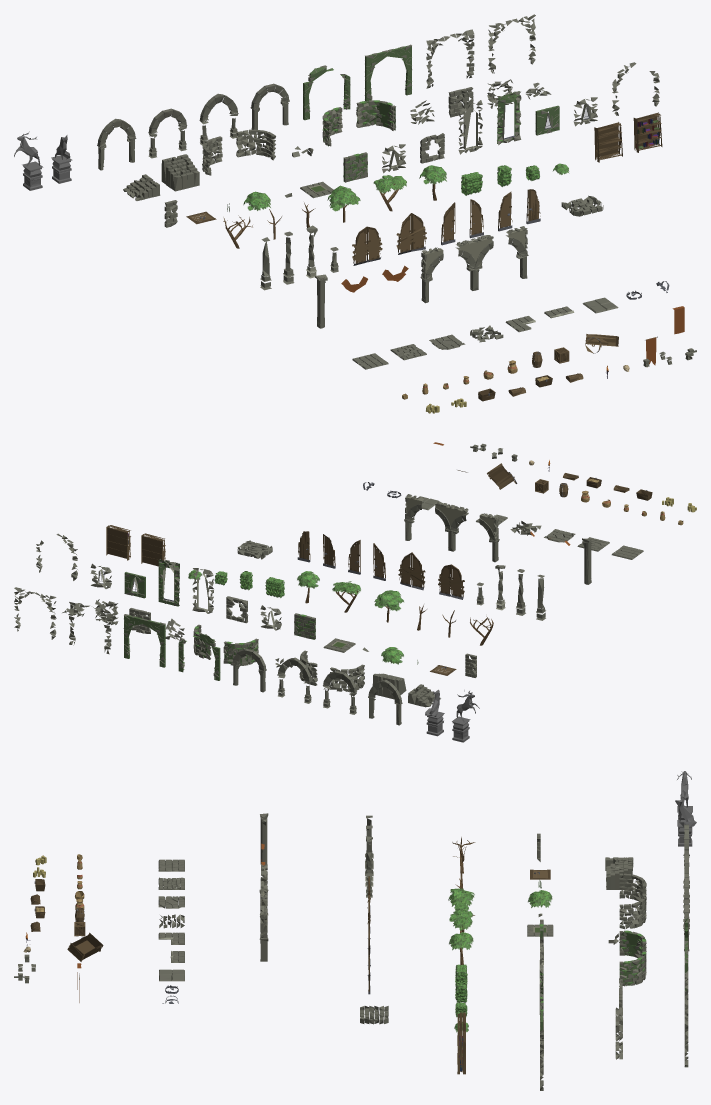
The model's file is ruins_lod.glb.
The picture shows the model from 3 angles, top to bottom: view 1: azimuth 30°, elevation 25°; view 2: azimuth 150°, elevation 25°; view 3: azimuth 270°, elevation 25°; orthographic projection. The views are drawn at different scales.
Visible parts, largest first — view 1: Stairs_2, Support_Center, Curve_2_Overgrown, Wall_ArchRound_Overgrown, Curve_2, Bookcase_Empty, Bookcase_Full, Doors_GothicArch_Covered, Doors_RoundArch_Covered, Window_Bars_Double_Overgrown, Statue_Stag, Wall_ArchGothic (+13 smaller); view 2: Wall_ArchRound_Overgrown, Support_Center, Bookcase_Full, Doors_GothicArch_Covered, Doors_RoundArch_Covered, Window_Bars_Double_Overgrown, Bookcase_Empty, Statue_Stag, Curve_1_Overgrown, Wall_ArchGothic, Arch_Gothic, Arch_Gothic_RoundColumn (+14 smaller); view 3: Curve_2_Overgrown, Curve_2, Curve_1_Overgrown, Curve_1, Stairs_2, Cart, Statue_Fox, BridgeSection.
Boxes of the visible parts, x1,y1,x2,y2 form: Stairs_2: (161,154,199,191); Support_Center: (455,235,493,290); Curve_2_Overgrown: (356,100,395,130); Wall_ArchRound_Overgrown: (364,44,412,101); Curve_2: (236,129,275,160); Bookcase_Empty: (594,122,622,162); Bookcase_Full: (633,112,662,152); Doors_GothicArch_Covered: (396,213,426,254); Doors_RoundArch_Covered: (352,226,382,265); Window_Bars_Double_Overgrown: (497,91,521,145); Statue_Stag: (14,131,43,190); Wall_ArchGothic: (426,29,474,88); Wall_ArchRound_Overgrown: (123,614,165,667); Support_Center: (435,501,468,551); Bookcase_Full: (106,525,130,560); Doors_GothicArch_Covered: (398,552,425,590); Doors_RoundArch_Covered: (438,564,464,599); Window_Bars_Double_Overgrown: (158,558,179,606); Bookcase_Empty: (141,533,165,566); Statue_Stag: (452,690,479,742); Curve_1_Overgrown: (223,638,258,665); Wall_ArchGothic: (69,602,111,654); Arch_Gothic: (368,680,402,725); Arch_Gothic_RoundColumn: (277,657,311,703); Curve_2_Overgrown: (619,951,646,986); Curve_2: (619,893,646,929); Curve_1_Overgrown: (619,930,646,965); Curve_1: (619,873,646,908); Stairs_2: (606,857,632,889); Cart: (67,932,103,961); Statue_Fox: (675,799,696,846); BridgeSection: (360,1006,388,1024).
Size of the model in its own units: 49.05 by 6.77 by 51.9.
Materials: 27 (3 with a texture image).
